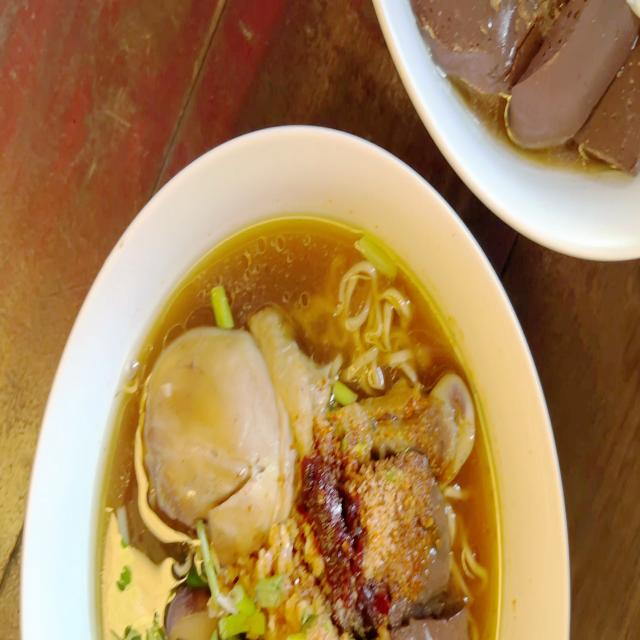boiled_chicken_blood_jelly: (417, 0, 639, 165)
chicken_drumstick: (132, 328, 478, 518)
noodle: (79, 212, 508, 640)
